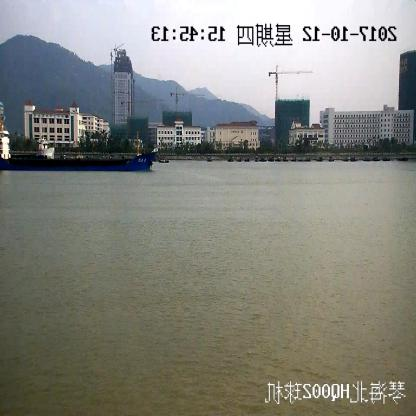Bulk Carrier: (0, 124, 157, 172)
